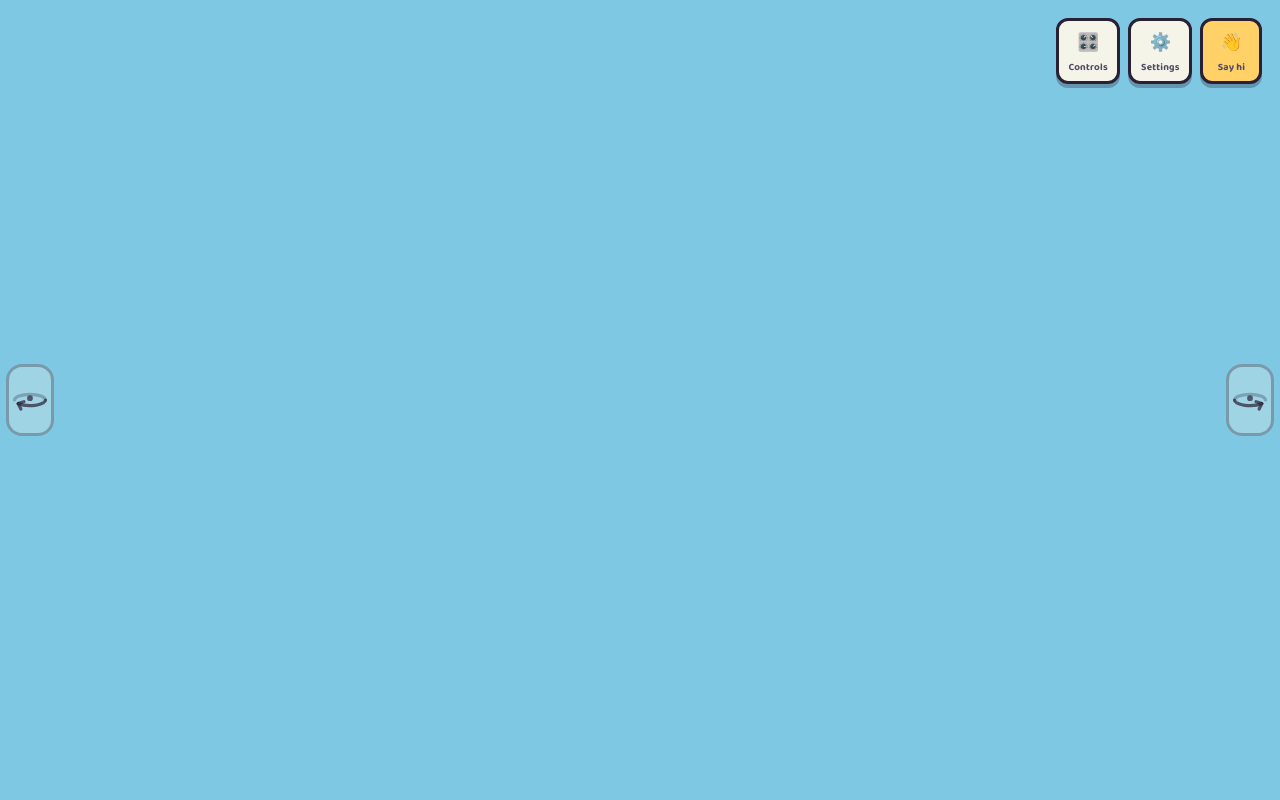
Test: the HUD on a phone › never has Controls and Settings open on top of each other
Step 1. Click the button "🎛️ Controls" → coordinates (1088, 51), box [1056,18,1120,84]
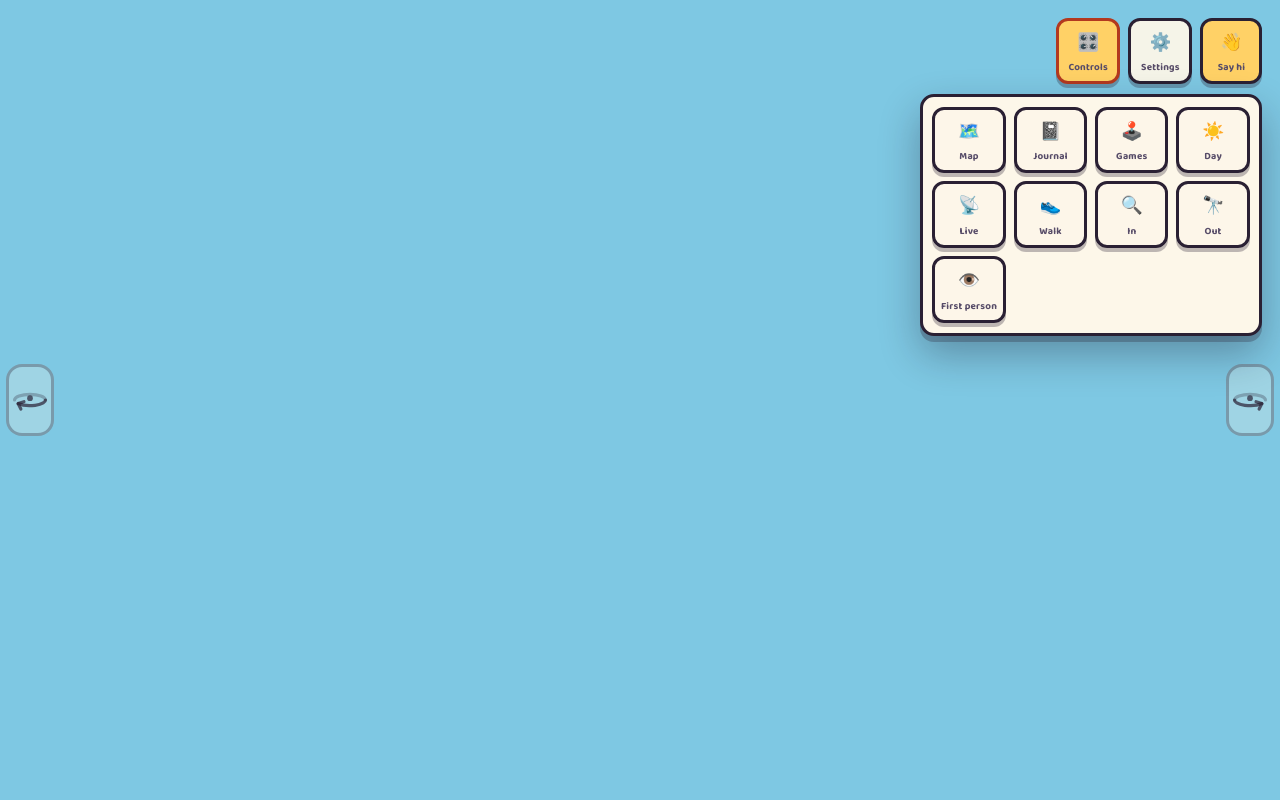
Step 2. Click the button "⚙️ Settings" → coordinates (1160, 51), box [1128,18,1192,84]
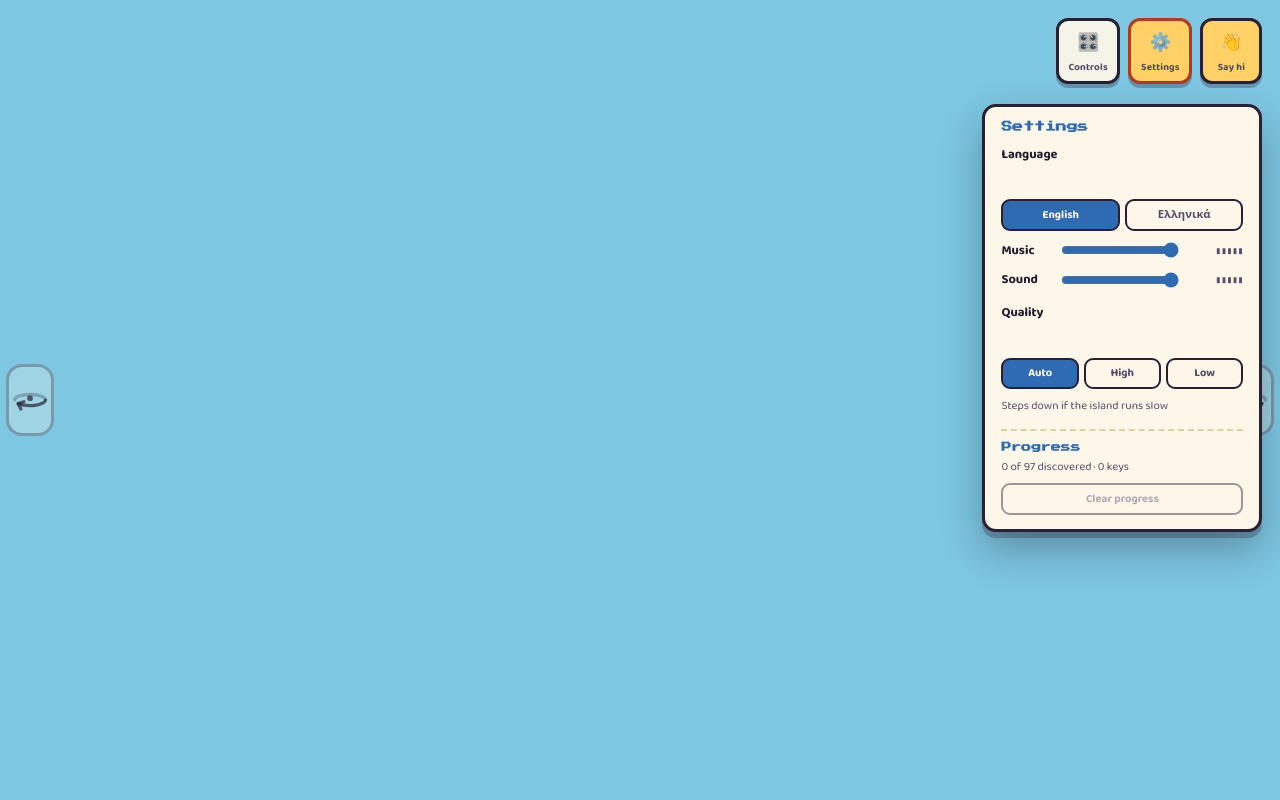
Result: the heading "Settings" is shown at [1001,121,1088,132]
